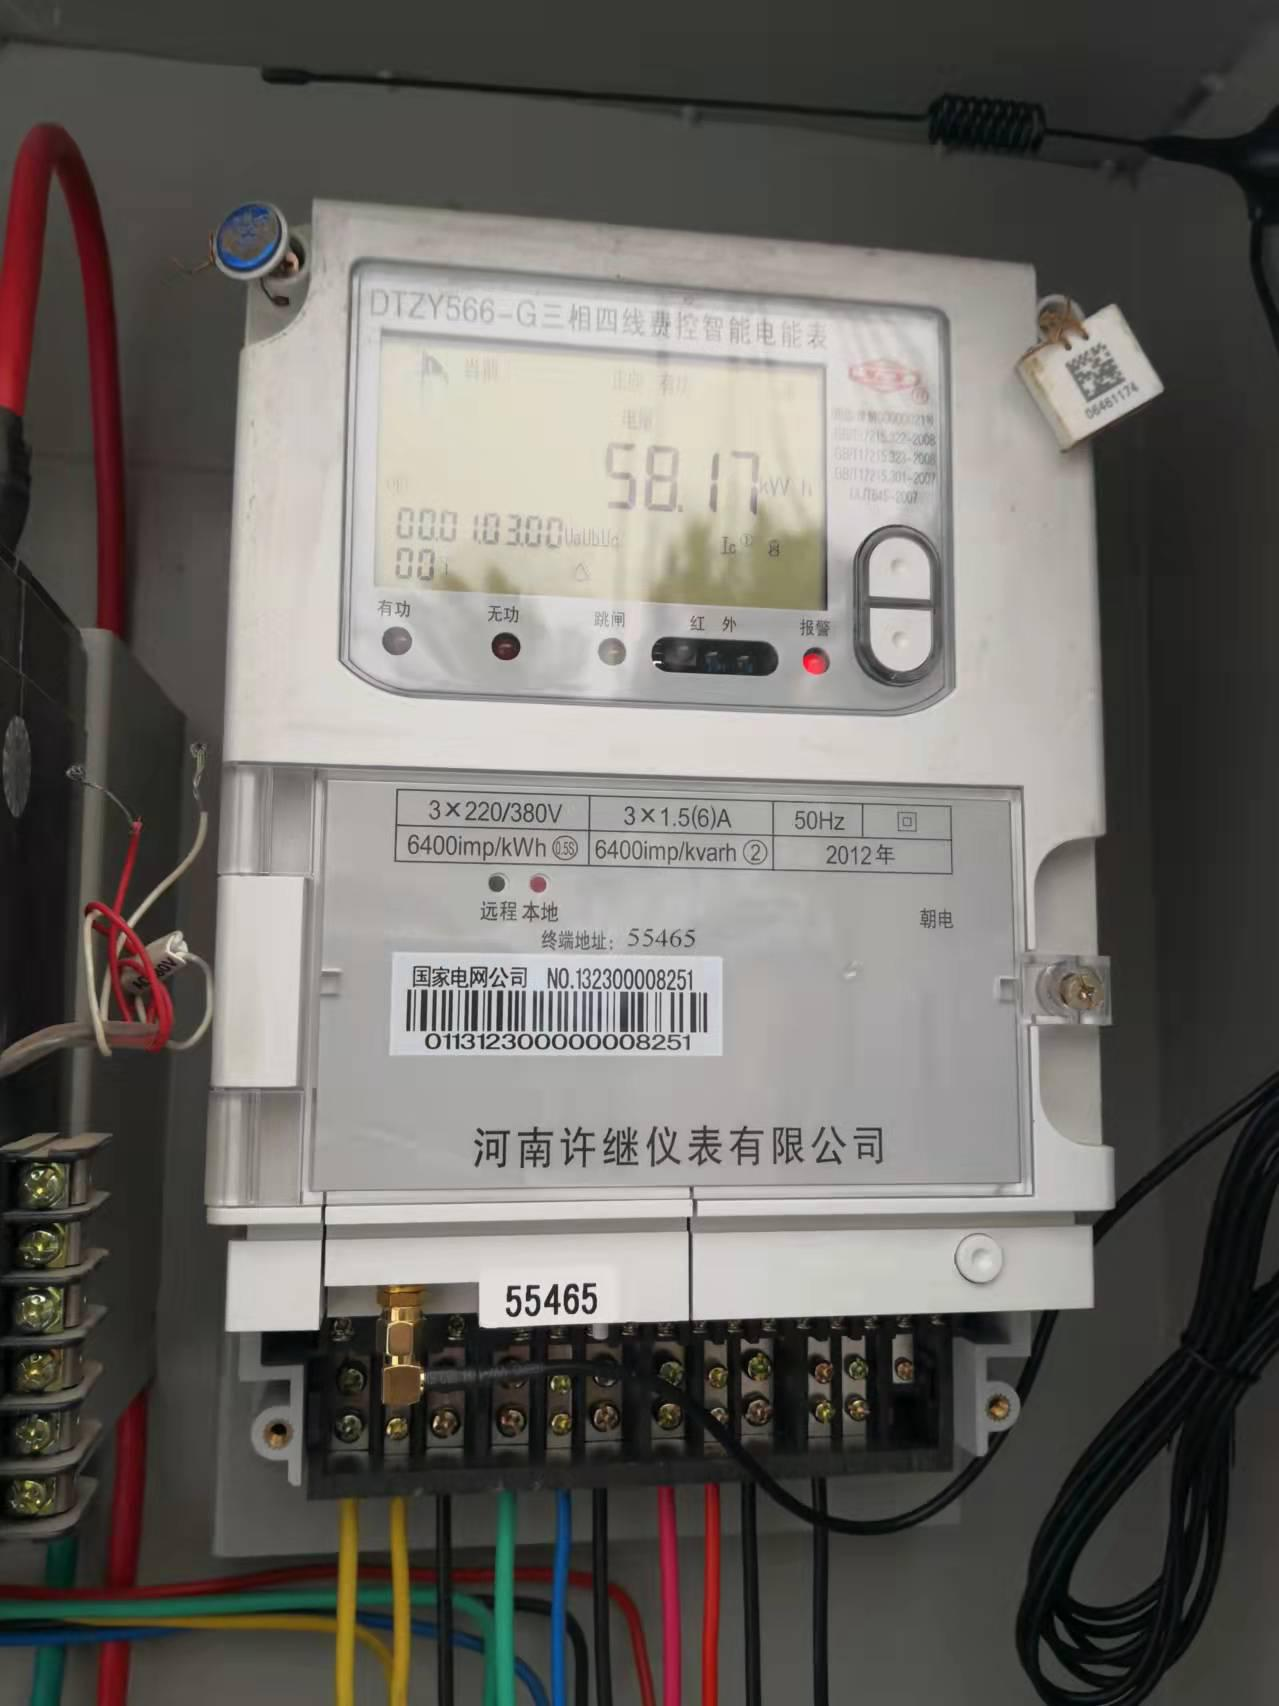digital: (206, 196, 1119, 1225)
